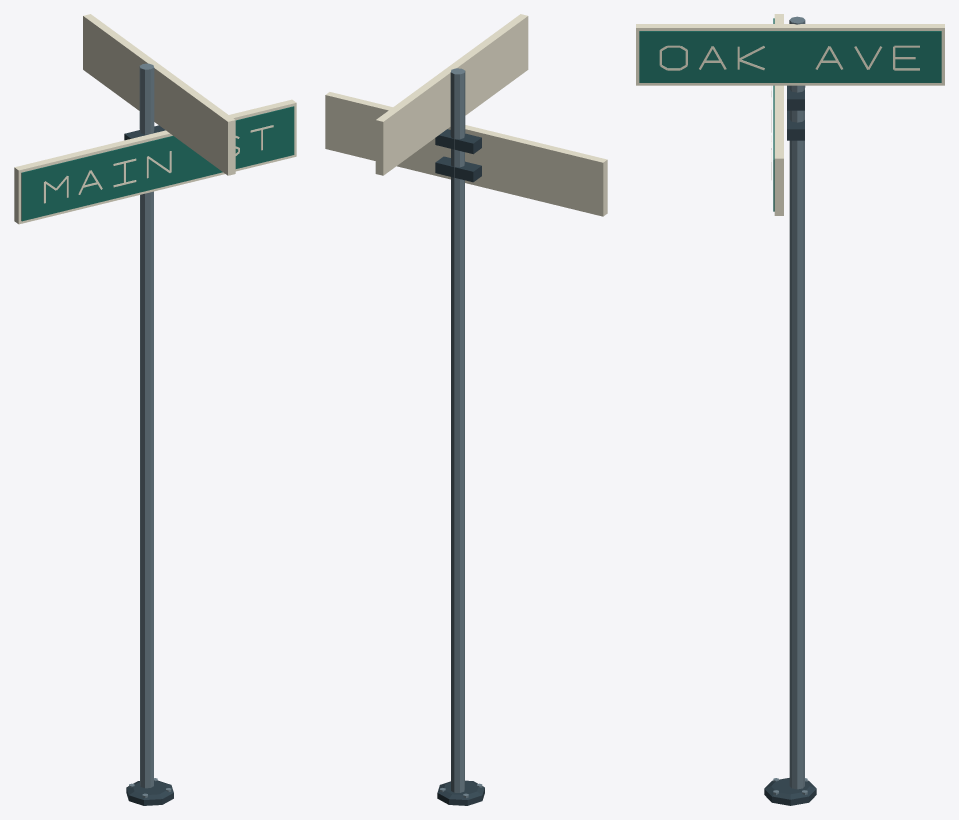
Rendered from sign_street_names.glb.
The picture shows the model from 3 angles, left to right: view 1: azimuth 30°, elevation 25°; view 2: azimuth 150°, elevation 25°; view 3: azimuth 270°, elevation 25°; orthographic projection. The views are drawn at different scales.
Parts seen in each view (by area): view 1: sign_street_names; view 2: sign_street_names; view 3: sign_street_names.
Part boxes in pixels (x1,y1,x2,y2): sign_street_names: (14, 14, 296, 805); sign_street_names: (325, 14, 607, 805); sign_street_names: (636, 14, 944, 805).
Bounding box in the file's own units: 1.24 × 3.1 × 1.12.
